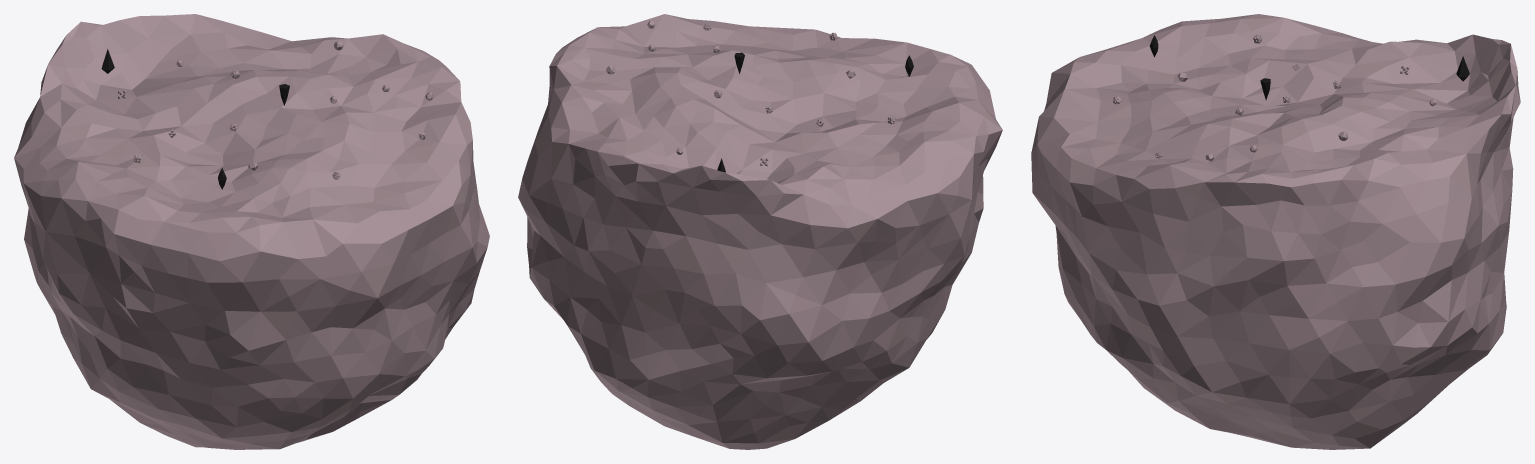
Rendered from World.glb.
3 views of the same model, side by side, from view 1: azimuth 30°, elevation 25°; view 2: azimuth 150°, elevation 25°; view 3: azimuth 270°, elevation 25° (orthographic). The views are drawn at different scales.
Parts seen in each view (by area): view 1: Planet Bottom, Planet Top; view 2: Planet Bottom, Planet Top; view 3: Planet Bottom, Planet Top.
Part boxes in pixels (box(x1,y1,x2,y2)): Planet Bottom: box(14, 36, 489, 449); Planet Top: box(14, 14, 472, 232); Planet Bottom: box(518, 30, 1002, 449); Planet Top: box(549, 14, 985, 218); Planet Bottom: box(1031, 57, 1520, 449); Planet Top: box(1054, 14, 1517, 188).
Size of the model in its own units: 50.7 by 41.35 by 50.72.
